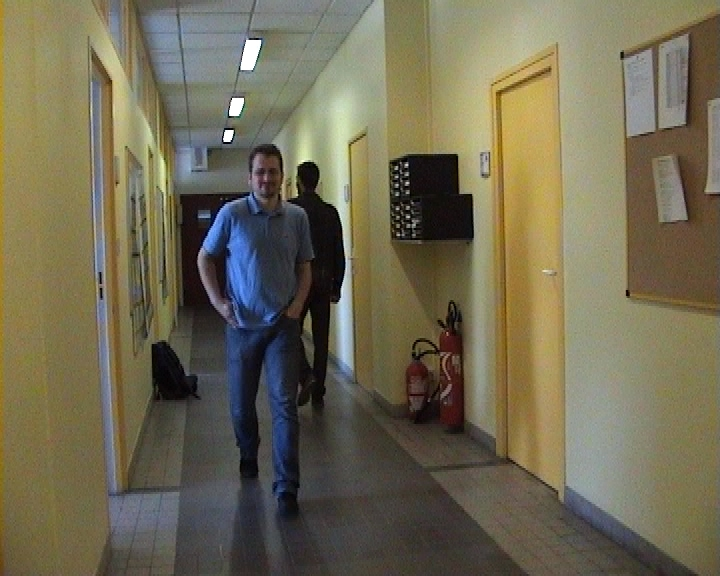leave bag unattended: (131, 303, 416, 473)
